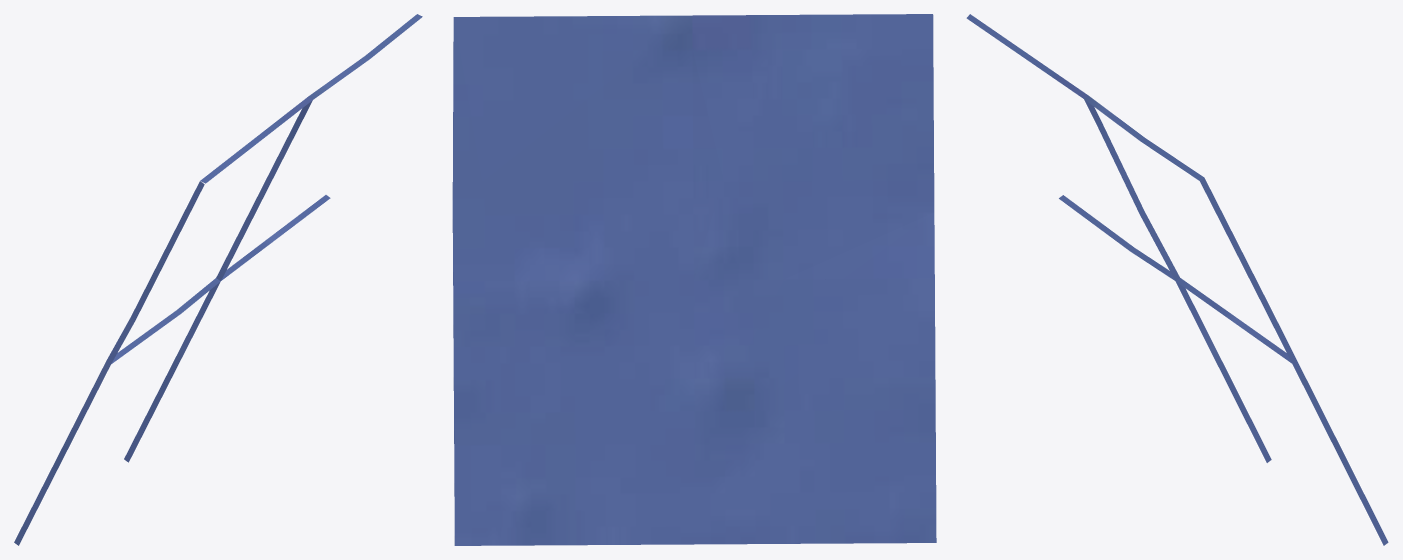
The picture shows the model from 3 angles, left to right: view 1: azimuth 30°, elevation 25°; view 2: azimuth 150°, elevation 25°; view 3: azimuth 270°, elevation 25°; orthographic projection. The views are drawn at different scales.
Size of the model in its own units: 19722 by 17837 by 16574.
Materials: 1 (1 with a texture image).
